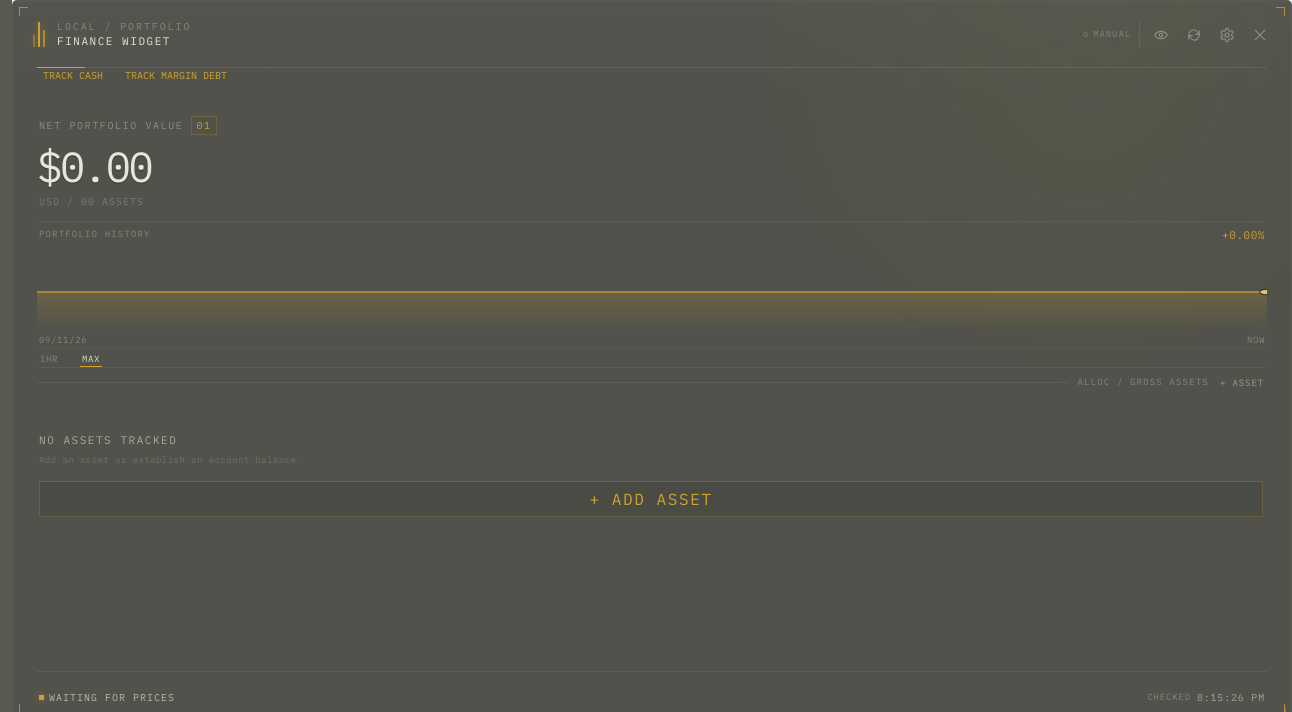
Test: application operation failures › retains the saved range on failure, reports it, and permits retry
This screenshot has width=1292, height=712.
Expected: the text "NO ASSETS TRACKED" is shown, x1=39 y1=434 x2=177 y2=448
Step 1. Click the button "1HR" → (49, 358), box x1=37 y1=348 x2=61 y2=367
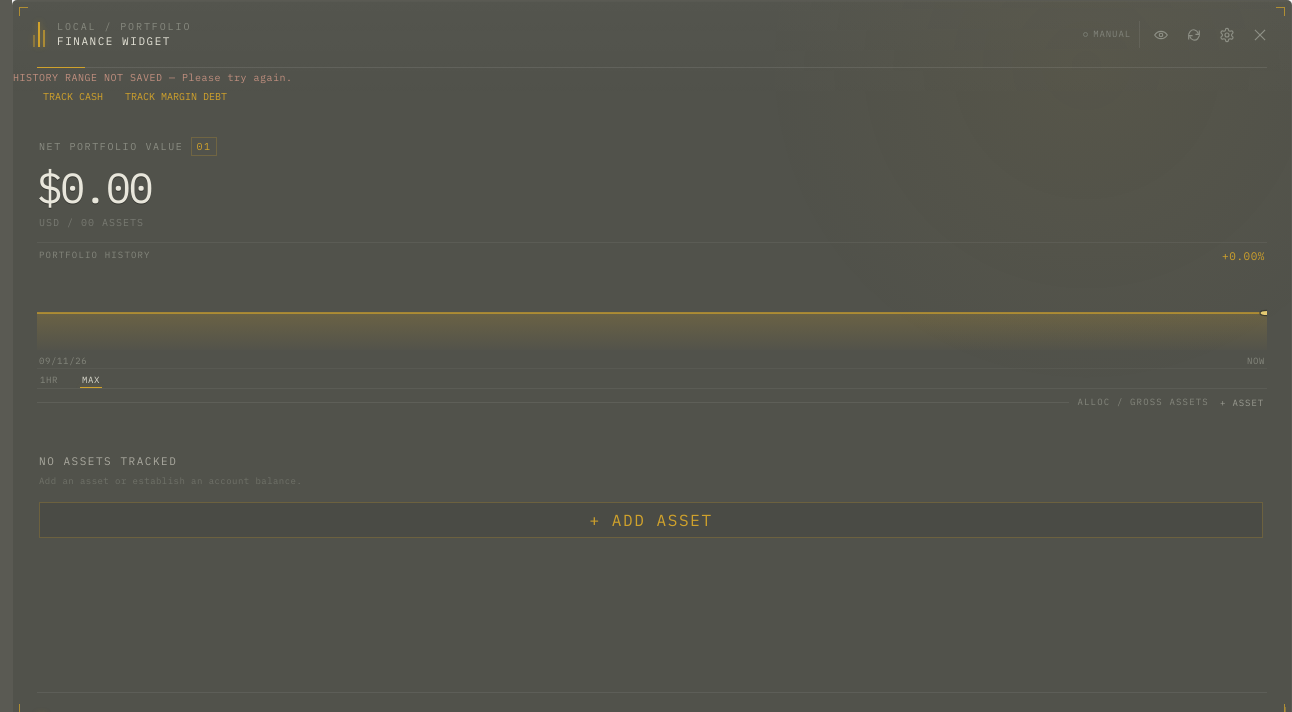
Expected: the message shows "HISTORY RANGE NOT SAVED", x1=13 y1=71 x2=292 y2=84
Step 2. Click the button "1HR" → (49, 378), box x1=37 y1=368 x2=61 y2=388
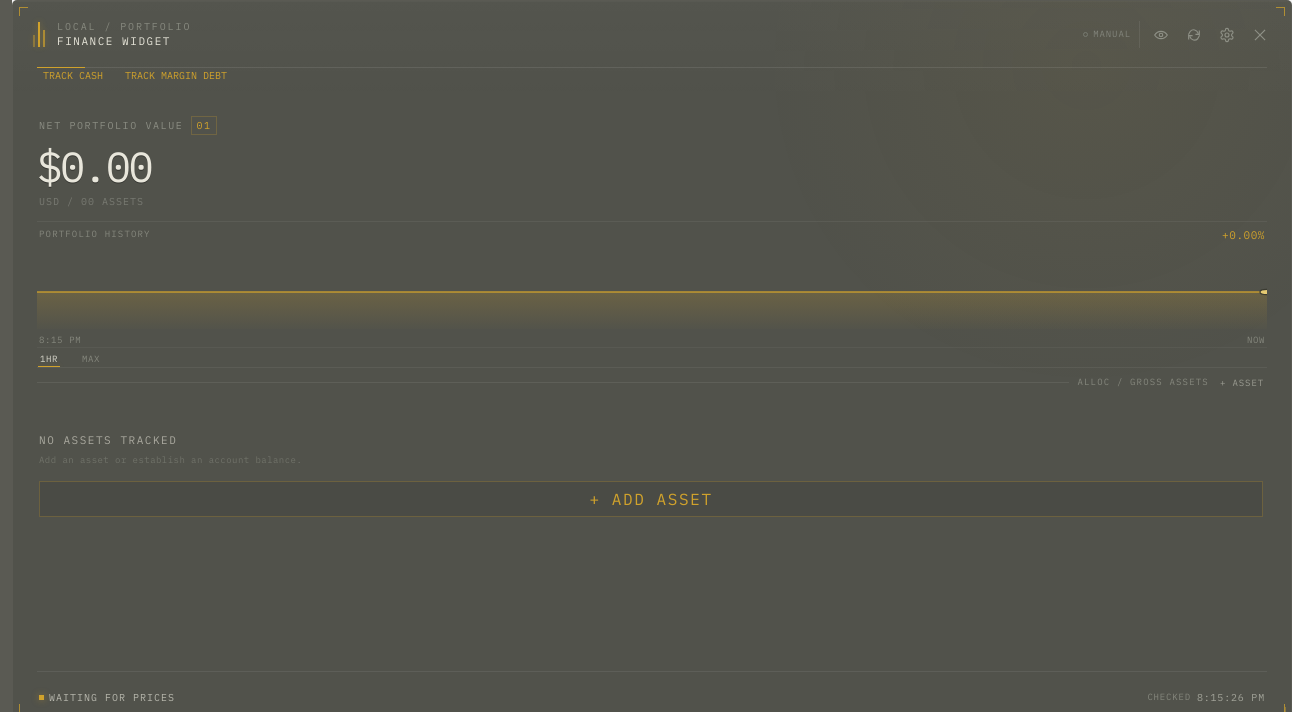
Expected: the message "HISTORY RANGE NOT SAVED — Please try again." is gone
